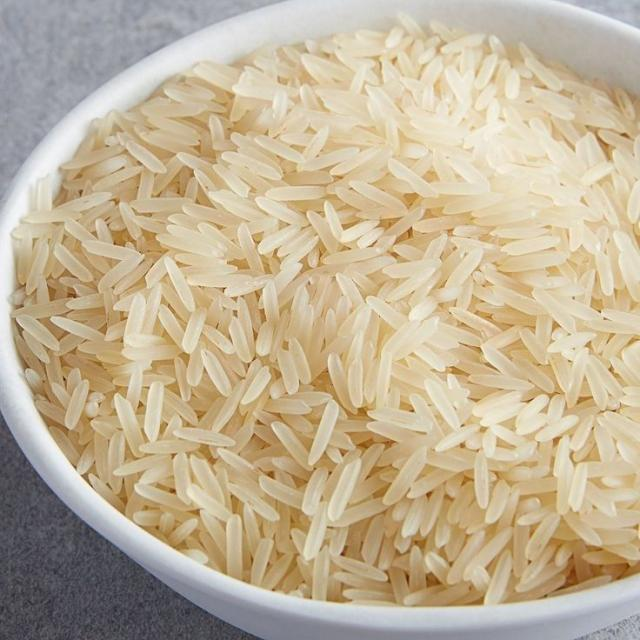rice: (12, 17, 639, 606)
